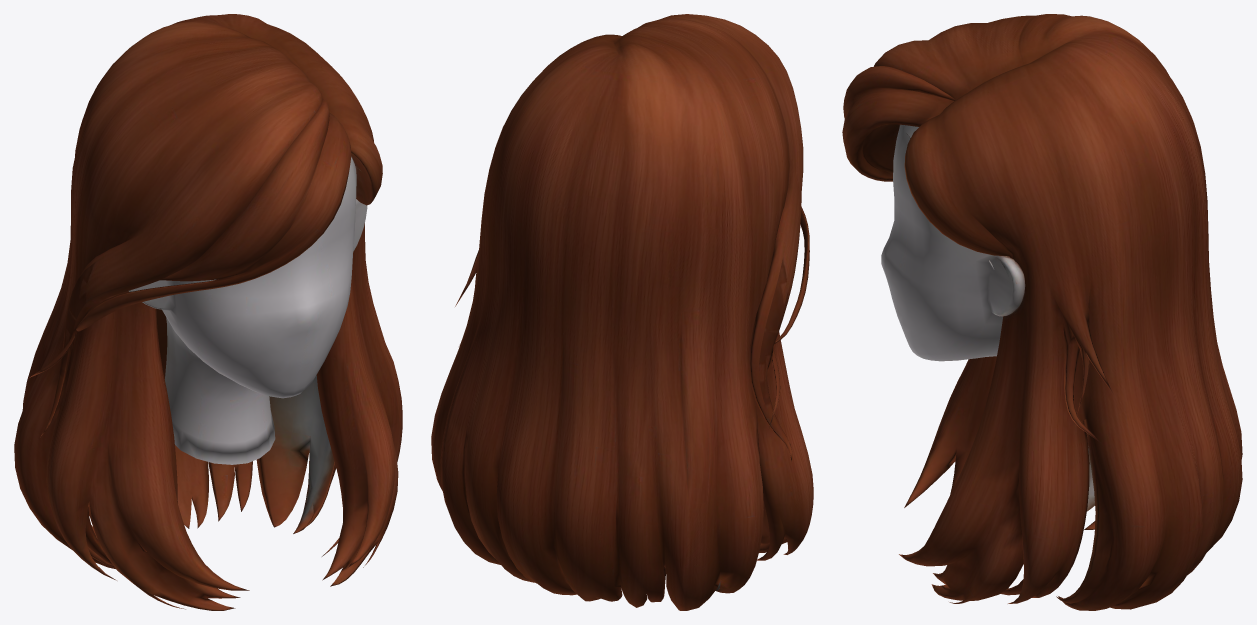
The model's file is hair_long.glb.
3 views of the same model, side by side, from view 1: azimuth 30°, elevation 25°; view 2: azimuth 150°, elevation 25°; view 3: azimuth 270°, elevation 25° (orthographic). The views are drawn at different scales.
Visible parts, largest first — view 1: tripo_node_4aeae347-cbb6-46c3-9b22-2c8b4503d11f; view 2: tripo_node_4aeae347-cbb6-46c3-9b22-2c8b4503d11f; view 3: tripo_node_4aeae347-cbb6-46c3-9b22-2c8b4503d11f.
Boxes of the visible parts, x1=… form: tripo_node_4aeae347-cbb6-46c3-9b22-2c8b4503d11f: x1=14, y1=14, x2=402, y2=610; tripo_node_4aeae347-cbb6-46c3-9b22-2c8b4503d11f: x1=431, y1=14, x2=813, y2=610; tripo_node_4aeae347-cbb6-46c3-9b22-2c8b4503d11f: x1=842, y1=14, x2=1242, y2=610.
Bounding box in the file's own units: 0.6831 × 0.9995 × 0.6753.
Materials: 1 (1 with a texture image).
